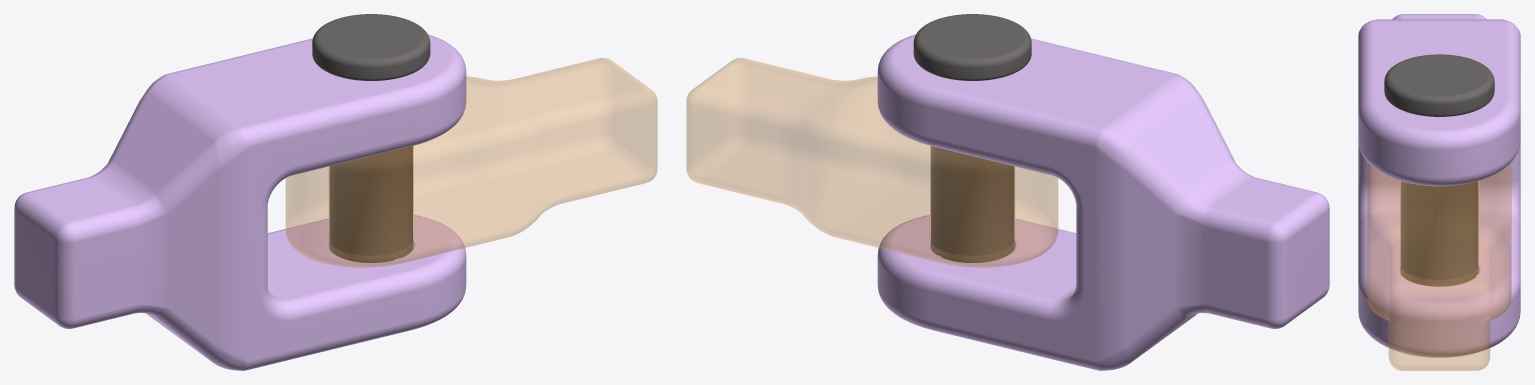
The model's file is api-gateway-integration.glb.
3 views of the same model, side by side, from view 1: azimuth 30°, elevation 25°; view 2: azimuth 150°, elevation 25°; view 3: azimuth 270°, elevation 25° (orthographic). The views are drawn at different scales.
Visible parts, largest first — view 1: Amethyst clevis fork, Mandarin coupling tongue, Brushed silver pivot pin; view 2: Amethyst clevis fork, Mandarin coupling tongue, Brushed silver pivot pin; view 3: Amethyst clevis fork, Mandarin coupling tongue, Brushed silver pivot pin.
Part boxes in pixels (x1=…): Amethyst clevis fork: x1=14, y1=34, x2=466, y2=370; Mandarin coupling tongue: x1=286, y1=58, x2=657, y2=267; Brushed silver pivot pin: x1=312, y1=14, x2=430, y2=262; Amethyst clevis fork: x1=877, y1=34, x2=1329, y2=370; Mandarin coupling tongue: x1=686, y1=58, x2=1057, y2=267; Brushed silver pivot pin: x1=913, y1=14, x2=1031, y2=262; Amethyst clevis fork: x1=1358, y1=14, x2=1520, y2=357; Mandarin coupling tongue: x1=1367, y1=163, x2=1511, y2=370; Brushed silver pivot pin: x1=1384, y1=54, x2=1494, y2=286.
Size of the model in its own units: 5.33 by 2.38 by 1.34.
